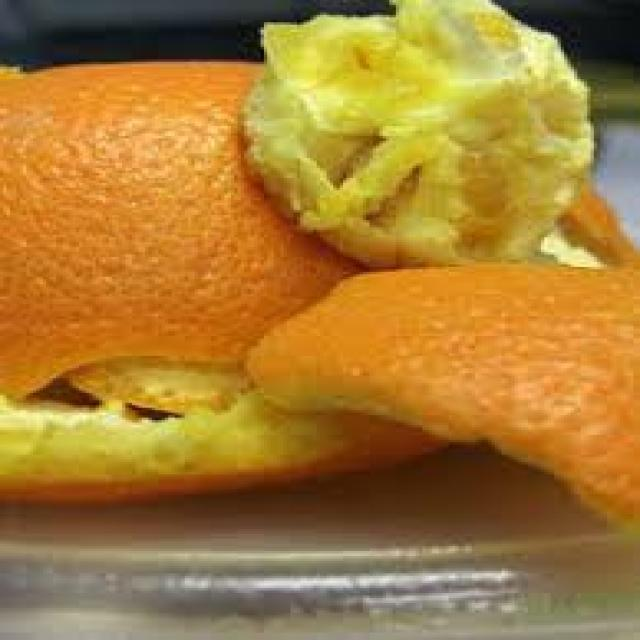Cascara de naranja: (16, 61, 546, 497)
